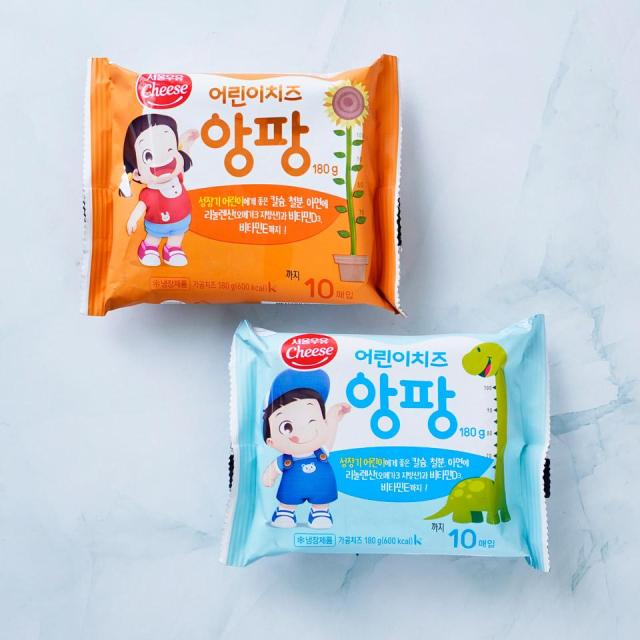cheese: (221, 315, 551, 572), (84, 55, 401, 315)
